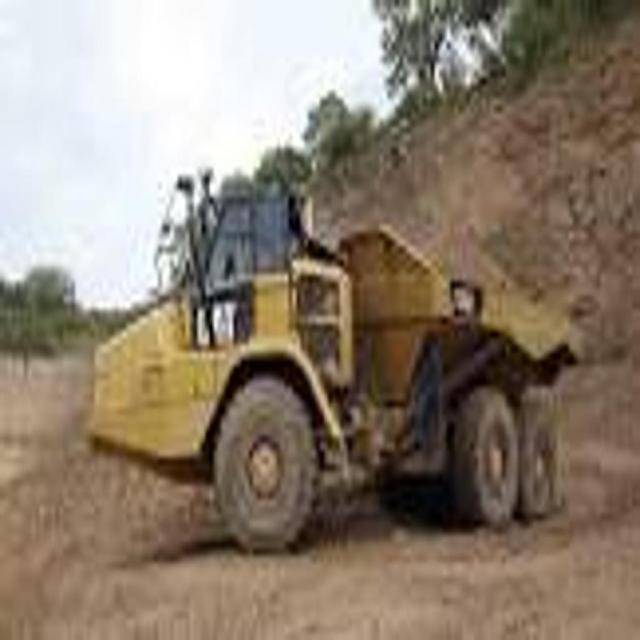dump_truck: (82, 161, 587, 549)
